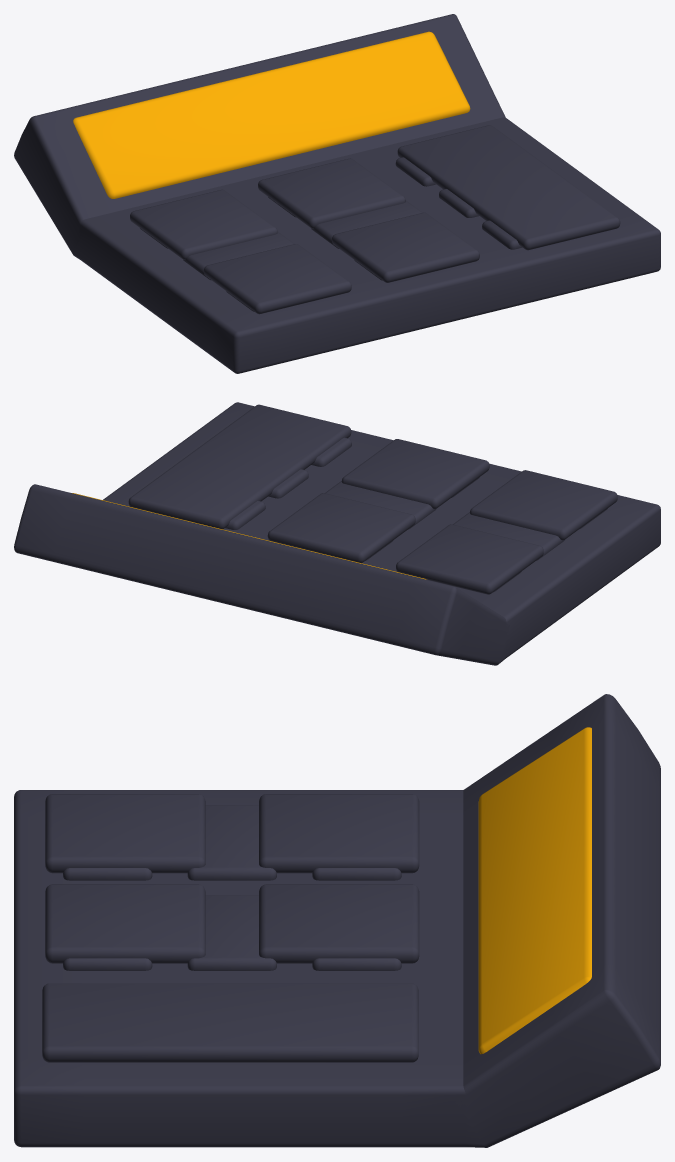
The model's file is calculator.gltf.
3 views of the same model, one above another, from view 1: azimuth 30°, elevation 25°; view 2: azimuth 150°, elevation 25°; view 3: azimuth 270°, elevation 25° (orthographic). The views are drawn at different scales.
Parts seen in each view (by area): view 1: Cube, Cube.2, Big btn, Cube.1 3 (×2), Cube.1 1, Cube.1 0, Cube.1 2, Cube.1 4; view 2: Cube, Big btn, Cube.1 3 (×2), Cube.1 2 (×2), Cube.1 0, Cube.1 1, Cube.1 4, Cube.1 5, Cube.1 8, Cube.2; view 3: Cube, Big btn, Cube.2, Cube.1 3 (×2), Cube.1 1 (×2), Cube.1 0 (×2), Cube.1 2, Cube.1 4, Cube.1 6, Cube.1 7.
Boxes of the visible parts, left/top/right/bottom form: Cube: left=14, top=14, right=660, bottom=373; Cube.2: left=73, top=31, right=470, bottom=198; Big btn: left=397, top=125, right=620, bottom=250; Cube.1 3 (×2): left=183, top=158, right=405, bottom=279; Cube.1 1: left=332, top=212, right=479, bottom=282; Cube.1 0: left=203, top=244, right=351, bottom=314; Cube.1 2: left=130, top=189, right=277, bottom=259; Cube.1 4: left=311, top=200, right=422, bottom=248; Cube: left=14, top=402, right=660, bottom=665; Big btn: left=128, top=404, right=351, bottom=529; Cube.1 3 (×2): left=267, top=493, right=564, bottom=563; Cube.1 2 (×2): left=311, top=437, right=543, bottom=594; Cube.1 0: left=470, top=470, right=617, bottom=540; Cube.1 1: left=341, top=439, right=489, bottom=509; Cube.1 4: left=325, top=481, right=436, bottom=529; Cube.1 5: left=268, top=469, right=308, bottom=498; Cube.1 8: left=225, top=501, right=265, bottom=529; Cube.2: left=72, top=493, right=426, bottom=579; Cube: left=14, top=694, right=660, bottom=1147; Big btn: left=42, top=983, right=418, bottom=1062; Cube.2: left=478, top=727, right=591, bottom=1054; Cube.1 3 (×2): left=187, top=805, right=419, bottom=963; Cube.1 1 (×2): left=45, top=884, right=205, bottom=970; Cube.1 0 (×2): left=45, top=794, right=205, bottom=880; Cube.1 2: left=259, top=794, right=419, bottom=873; Cube.1 4: left=187, top=895, right=276, bottom=970; Cube.1 6: left=312, top=868, right=401, bottom=880; Cube.1 7: left=312, top=958, right=401, bottom=970.
Size of the model in its own units: 200 by 48.84 by 182.
